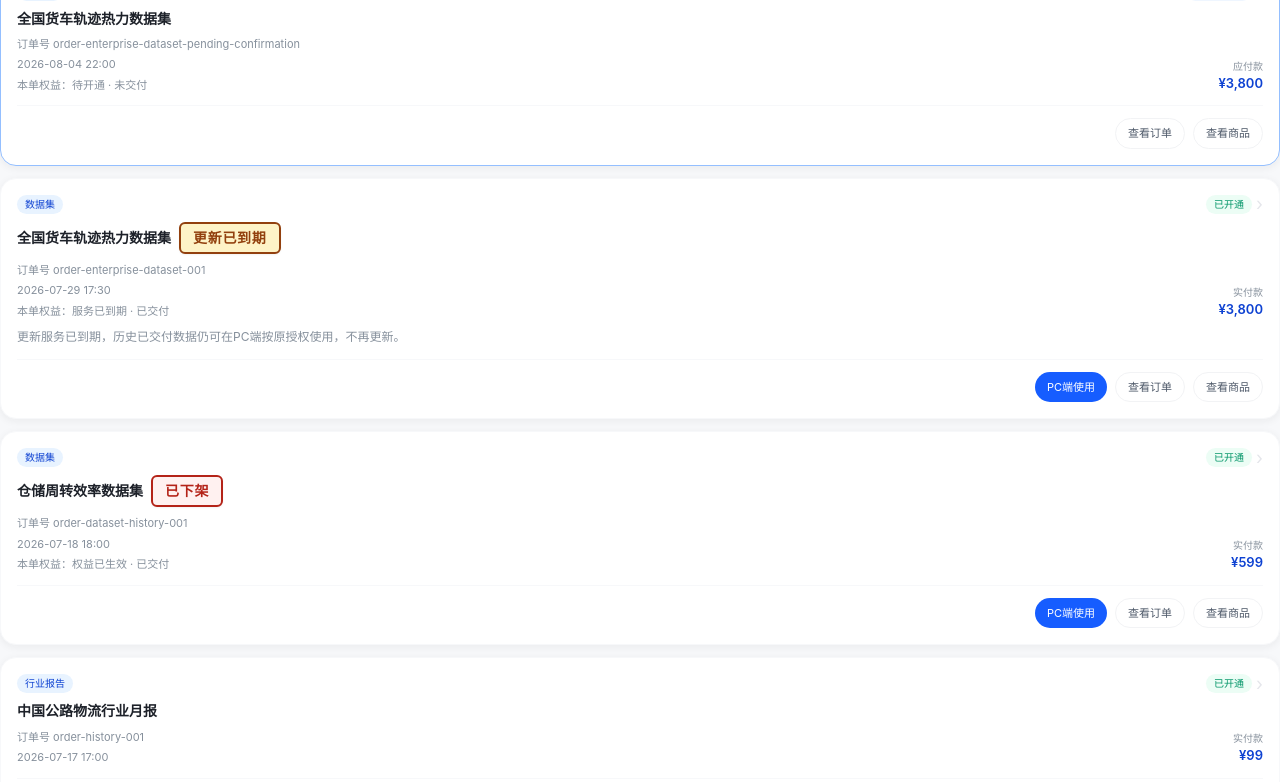
Test case: BuyDataOrders › keeps delivered historical data available through PC guidance after expiry
The image size is (1280, 782).
(page scrolled)
Expected: the link with test id "order-card-app-order-enterprise-dataset-001" shows "历史已交付数据", [0, 178, 1279, 419]
Expected: the link with test id "order-card-app-order-enterprise-dataset-001" shows "不再更新", [0, 178, 1279, 419]
Click the 1st button "PC端使用".
click(1071, 387)  # box [1035, 372, 1107, 402]
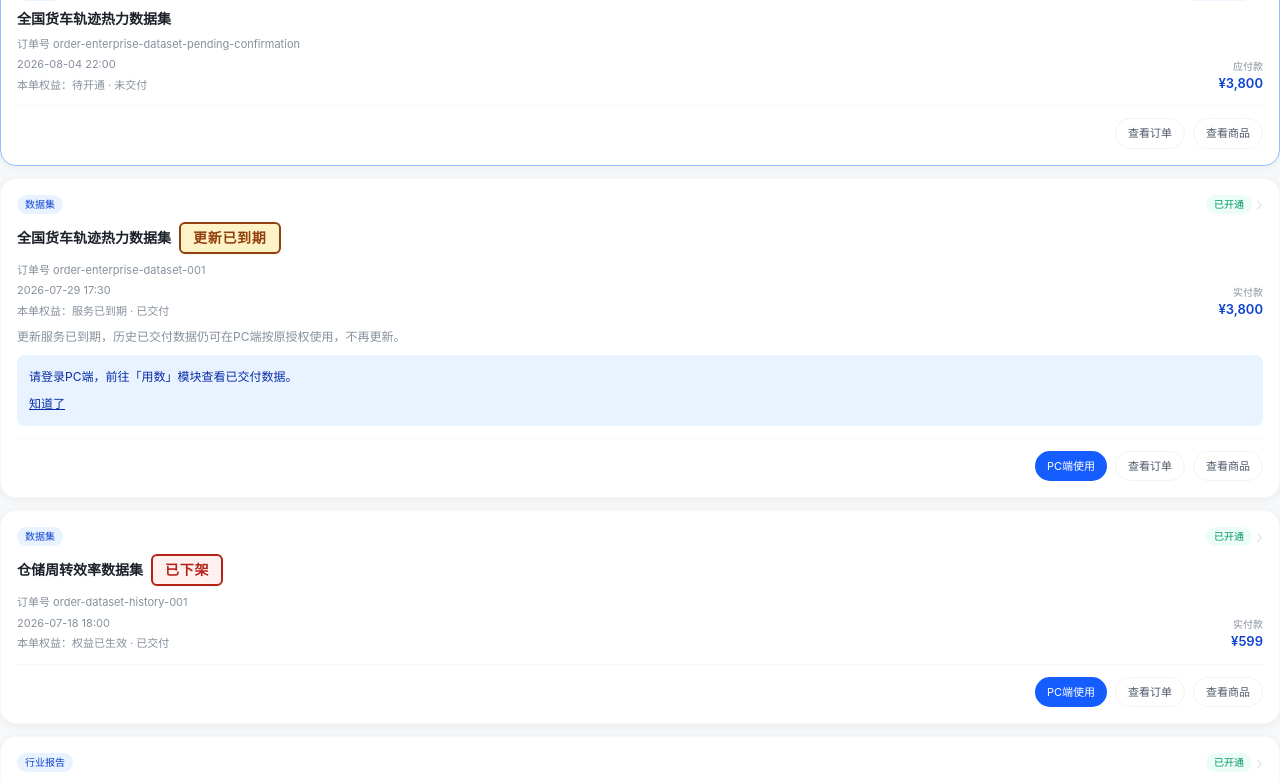
Expected: the message "请登录PC端，前往「用数」模块查看已交付数据。 知道了" is shown, [17, 355, 1263, 426]
